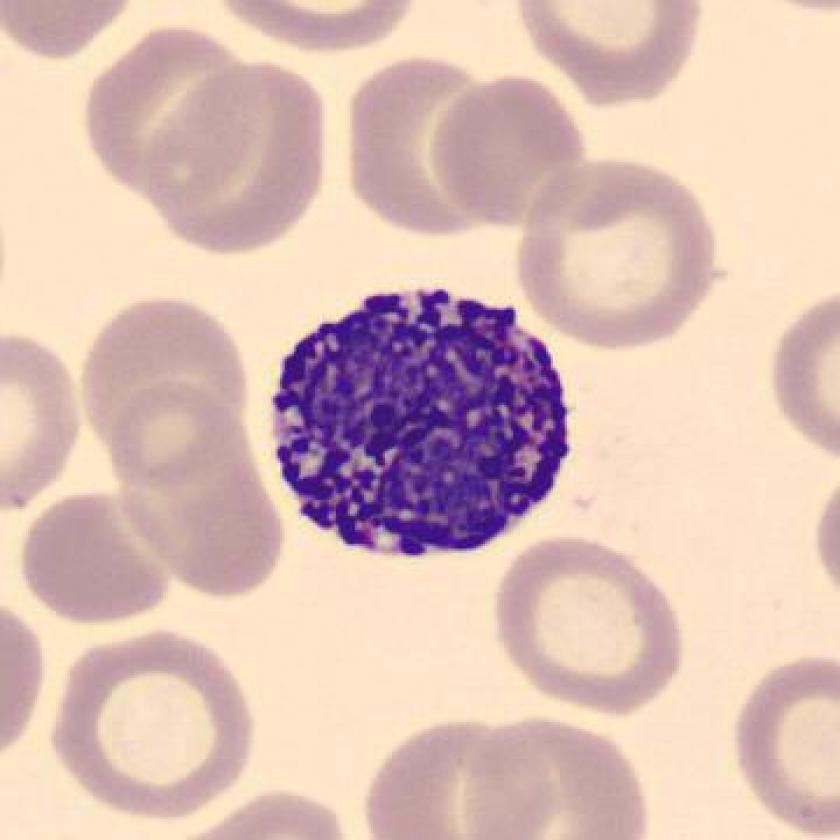basophil: (270, 281, 578, 559)
